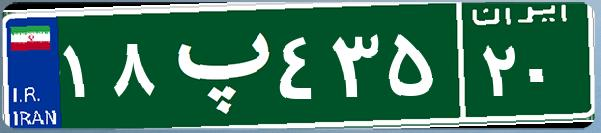0: (525, 38, 570, 115)
1: (57, 26, 110, 107)
2: (475, 38, 525, 113)
3: (330, 28, 385, 110)
4: (273, 28, 330, 110)
5: (385, 28, 445, 110)
8: (110, 28, 158, 105)
پ: (158, 15, 273, 115)
